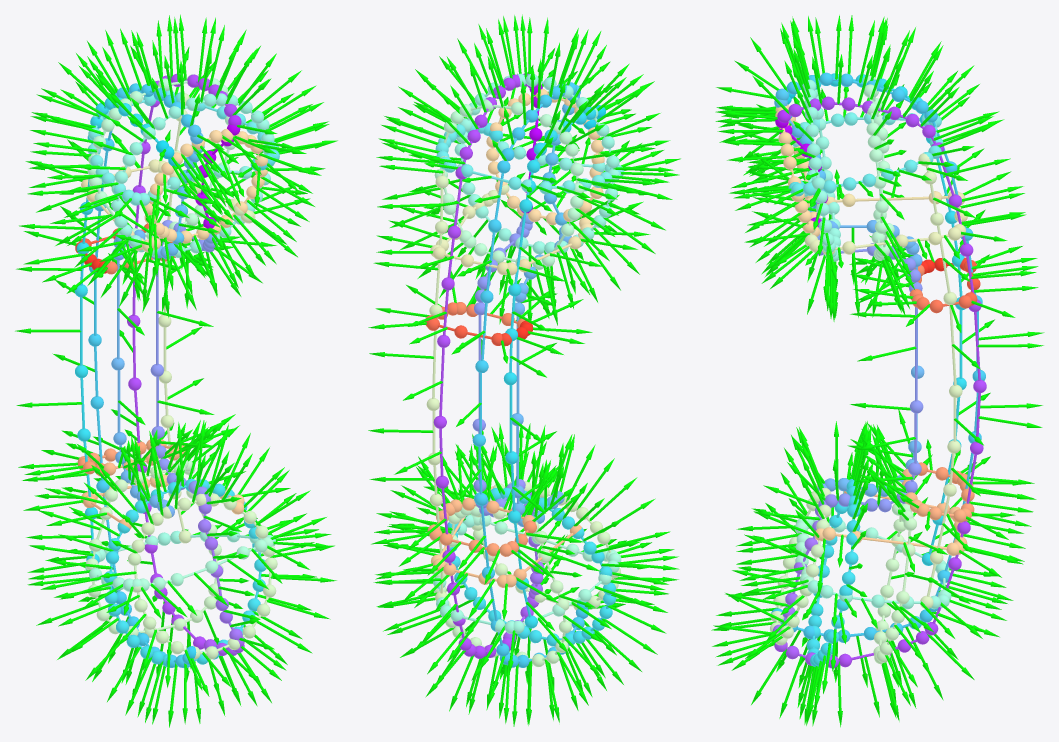
The model's file is flowrep_phone.gltf.
3 views of the same model, side by side, from view 1: azimuth 30°, elevation 25°; view 2: azimuth 150°, elevation 25°; view 3: azimuth 270°, elevation 25° (orthographic).
Size of the model in its own units: 0.4614 by 1.11 by 0.4934.
